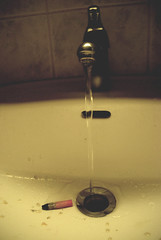cigarette: (40, 197, 74, 213)
